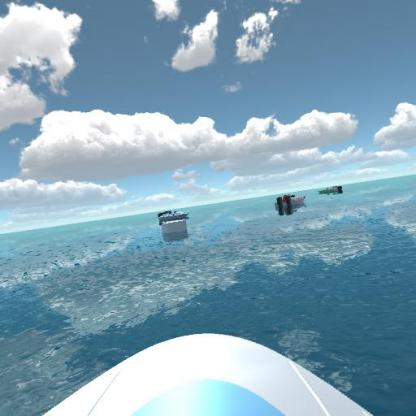usv0: (316, 184, 344, 196)
usv1: (154, 208, 192, 223)
usv3: (272, 190, 309, 211)
